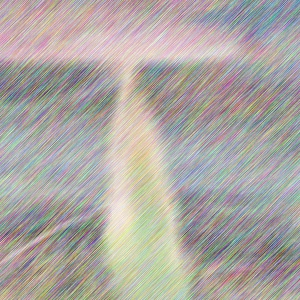Leaf_Blast: (103, 126, 185, 300)
